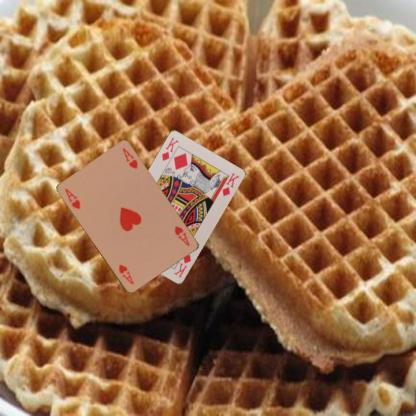Ah: (62, 186, 82, 210), (172, 223, 191, 247)
Kd: (172, 251, 192, 279), (159, 136, 180, 162)
